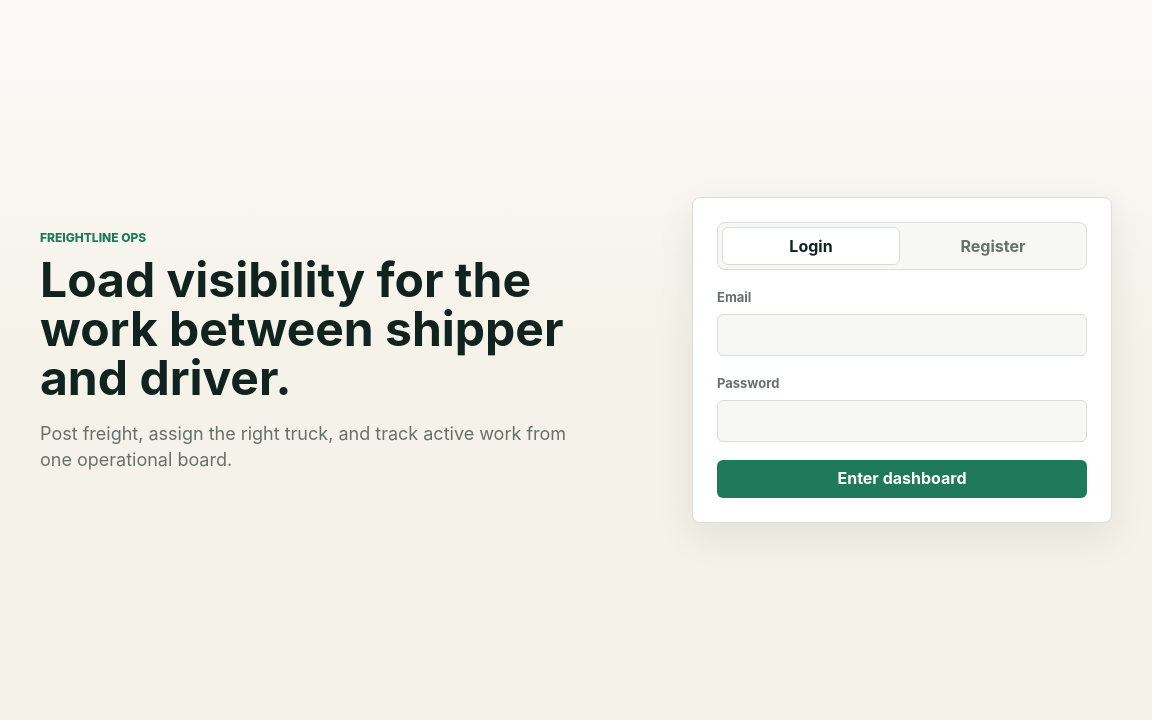
Test: AuthScreen › surfaces server error on failed login
Type "demo@test.com" into the field labelled "Email" at coordinates (902, 335), box [717, 314, 1087, 356]
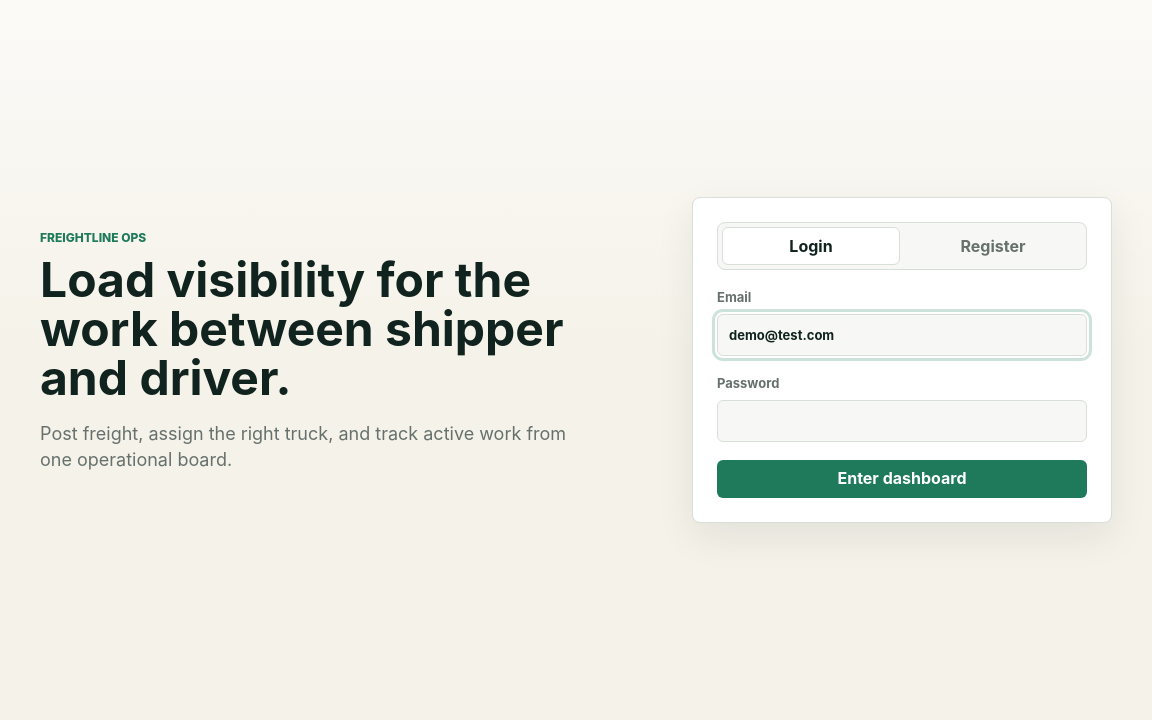
Type "wrong" into the password field labelled "Password" at coordinates (902, 421), box [717, 400, 1087, 442]
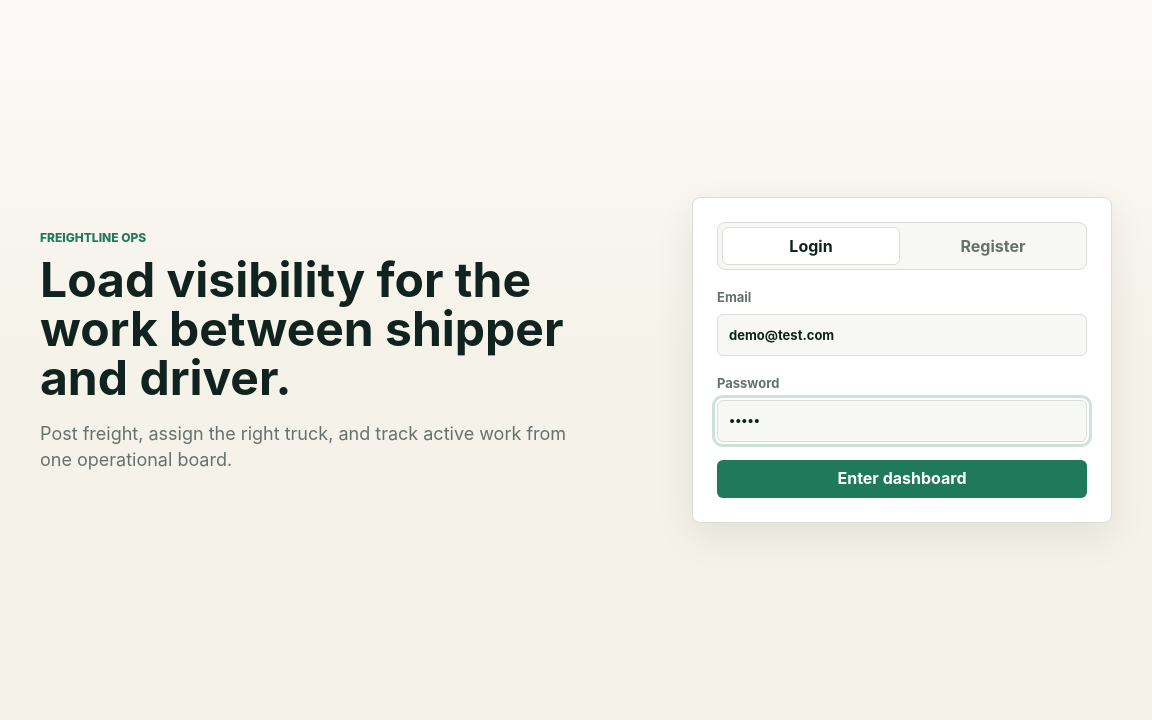
Click the button "Enter dashboard" at coordinates (902, 479), box [717, 460, 1087, 498]
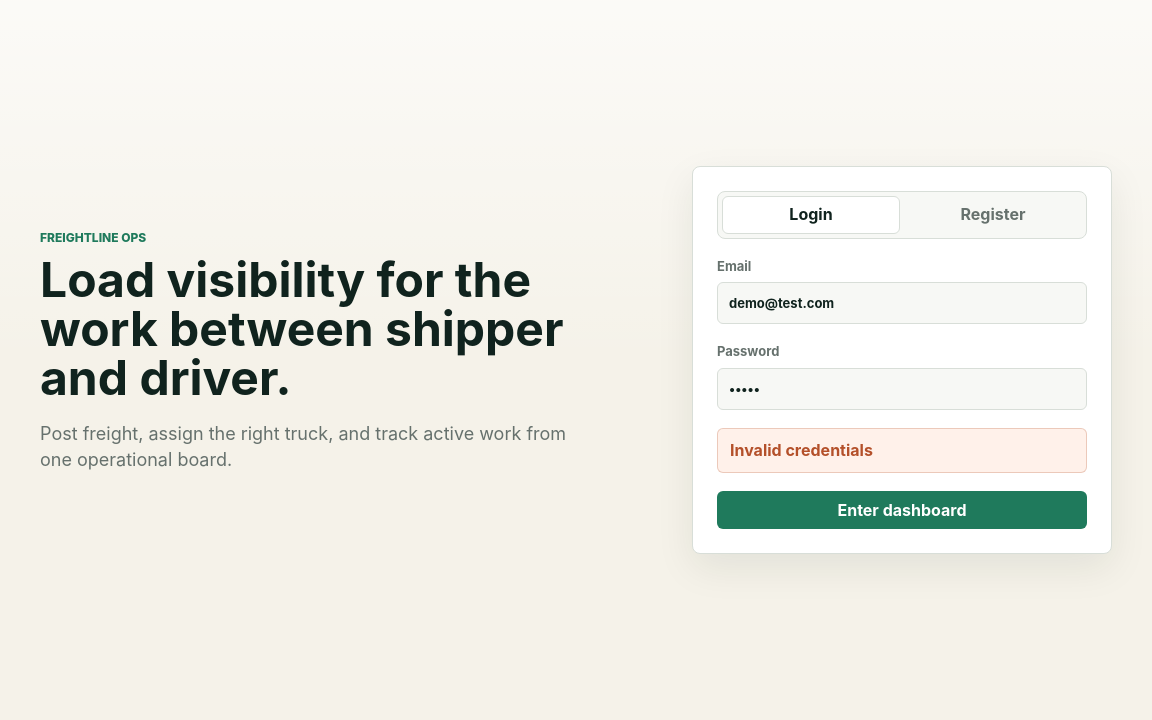
Expected: the text "Invalid credentials" is shown, [717, 428, 1087, 474]
